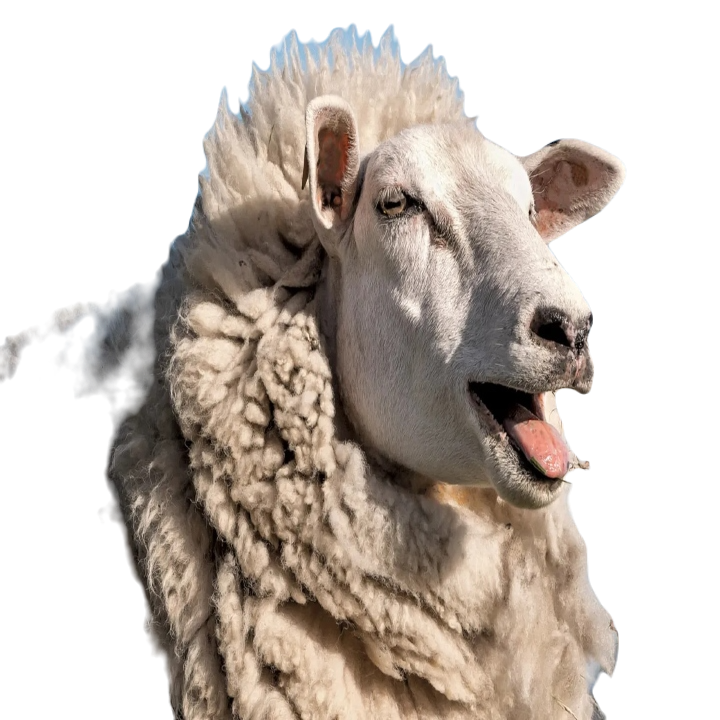Sheep: (104, 22, 631, 719)
